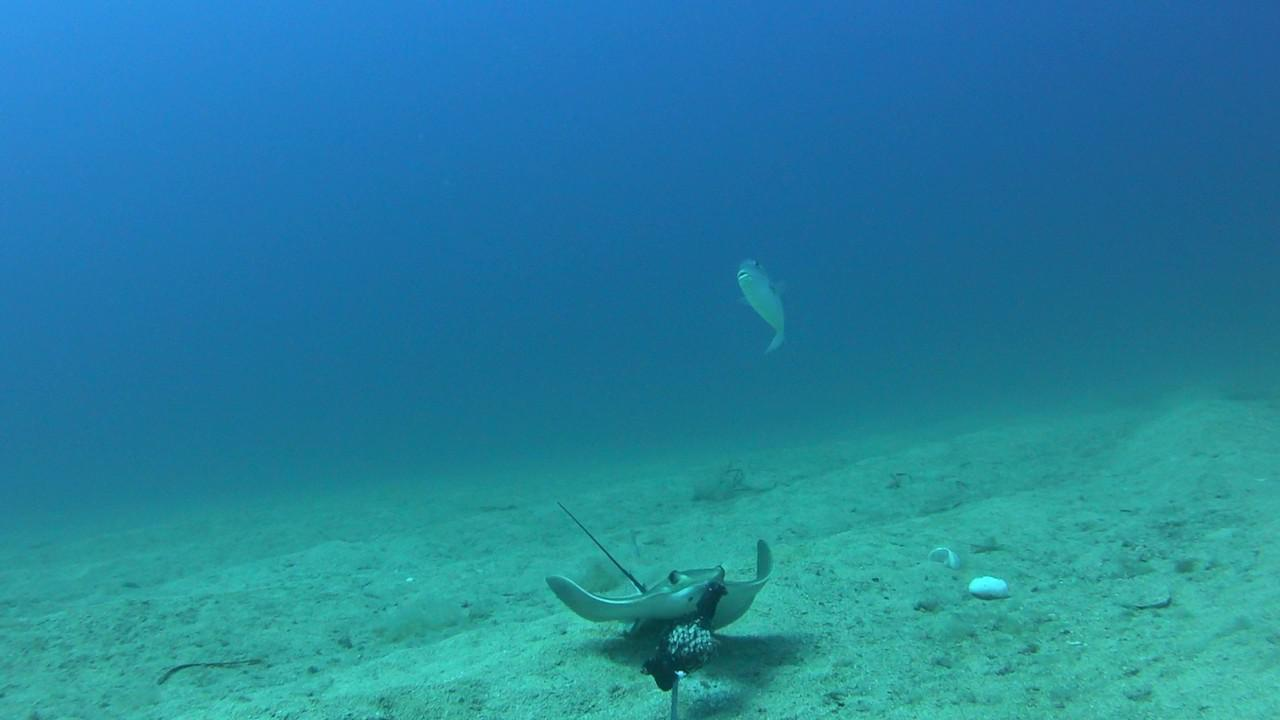balistes: (730, 253, 789, 354)
myliobatis: (536, 496, 799, 636)
